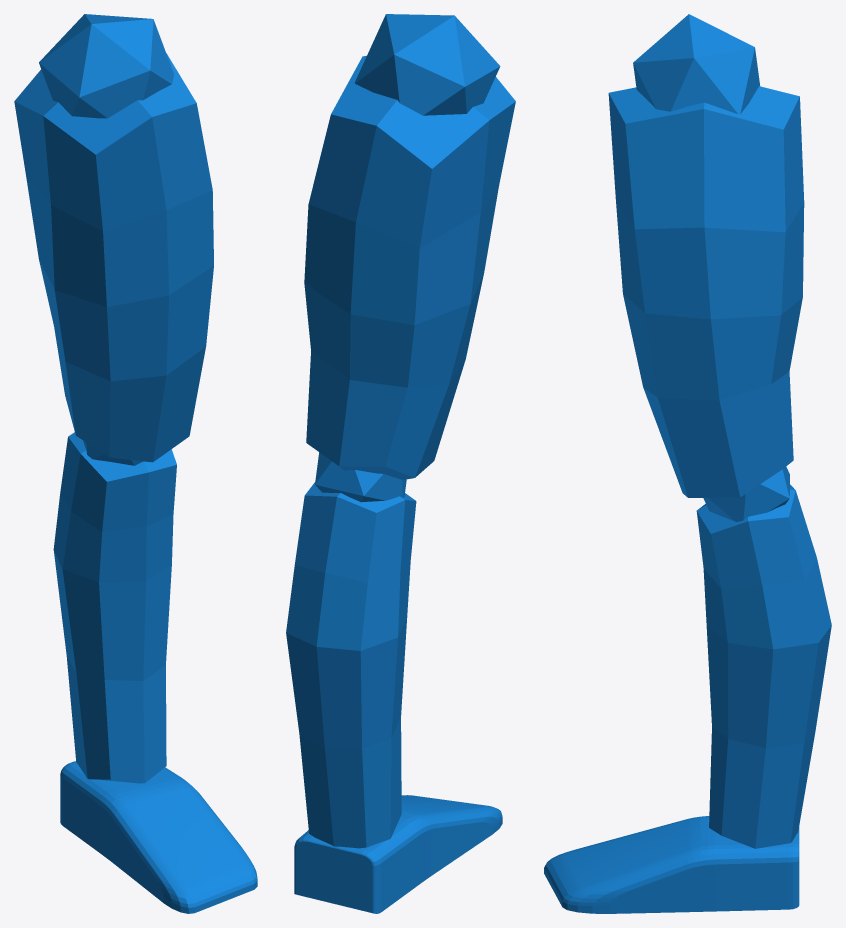
The model's file is right_leg.fbx.
The picture shows the model from 3 angles, left to right: view 1: azimuth 30°, elevation 25°; view 2: azimuth 150°, elevation 25°; view 3: azimuth 270°, elevation 25°; orthographic projection. The views are drawn at different scales.
Parts seen in each view (by area): view 1: RIGHT_LEG; view 2: RIGHT_LEG; view 3: RIGHT_LEG.
Boxes of the visible parts, box(x1,y1,x2,y2) form: RIGHT_LEG: box(14, 14, 257, 913); RIGHT_LEG: box(286, 14, 515, 913); RIGHT_LEG: box(544, 14, 831, 913).
Bounding box in the file's own units: 0.3449 × 1.78 × 0.5486.
